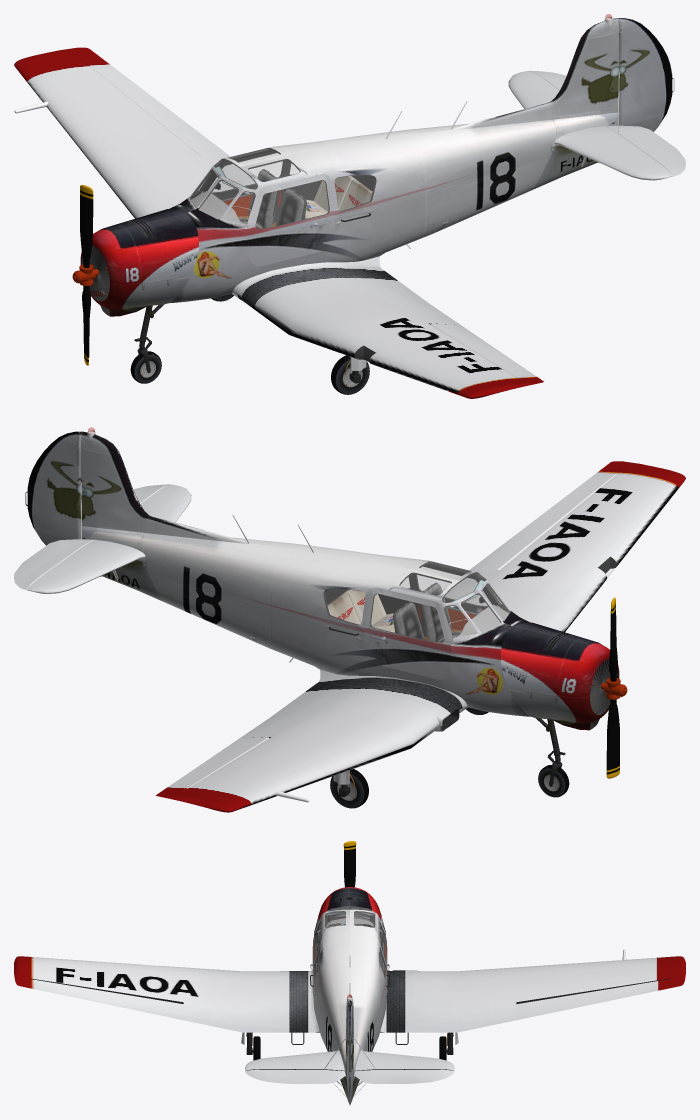
Rendered from yak_18_t.glb.
3 views of the same model, one above another, from view 1: azimuth 30°, elevation 25°; view 2: azimuth 150°, elevation 25°; view 3: azimuth 270°, elevation 25° (orthographic). The views are drawn at different scales.
Visible parts, largest first — view 1: Object_62, Object_61, Object_70, Object_65, Object_60, Object_24, Object_64, Object_63, Object_25, Object_2; view 2: Object_62, Object_61, Object_70, Object_65, Object_60, Object_24, Object_63, Object_64, Object_25, Object_2; view 3: Object_62, Object_61, Object_70, Object_65, Object_60.
Part boxes in pixels (x1=…): Object_62: x1=14, y1=47, x2=685, y2=398; Object_61: x1=81, y1=18, x2=619, y2=374; Object_70: x1=190, y1=148, x2=375, y2=362; Object_65: x1=80, y1=18, x2=674, y2=365; Object_60: x1=189, y1=148, x2=376, y2=228; Object_24: x1=238, y1=169, x2=372, y2=228; Object_64: x1=130, y1=16, x2=612, y2=394; Object_63: x1=14, y1=101, x2=233, y2=301; Object_25: x1=275, y1=188, x2=306, y2=226; Object_2: x1=191, y1=191, x2=244, y2=223; Object_62: x1=14, y1=461, x2=685, y2=812; Object_61: x1=80, y1=431, x2=618, y2=788; Object_70: x1=323, y1=558, x2=616, y2=642; Object_65: x1=25, y1=431, x2=619, y2=778; Object_60: x1=323, y1=561, x2=510, y2=642; Object_24: x1=327, y1=589, x2=424, y2=639; Object_63: x1=275, y1=659, x2=627, y2=808; Object_64: x1=87, y1=429, x2=569, y2=797; Object_25: x1=419, y1=582, x2=462, y2=642; Object_2: x1=455, y1=604, x2=508, y2=637; Object_62: x1=14, y1=887, x2=685, y2=1083; Object_61: x1=31, y1=909, x2=668, y2=1097; Object_70: x1=313, y1=906, x2=386, y2=977; Object_65: x1=343, y1=841, x2=356, y2=1105; Object_60: x1=313, y1=906, x2=386, y2=978.
Bounding box in the file's own units: 8.39 × 3.41 × 11.14.
Materials: 59 (40 with a texture image).
